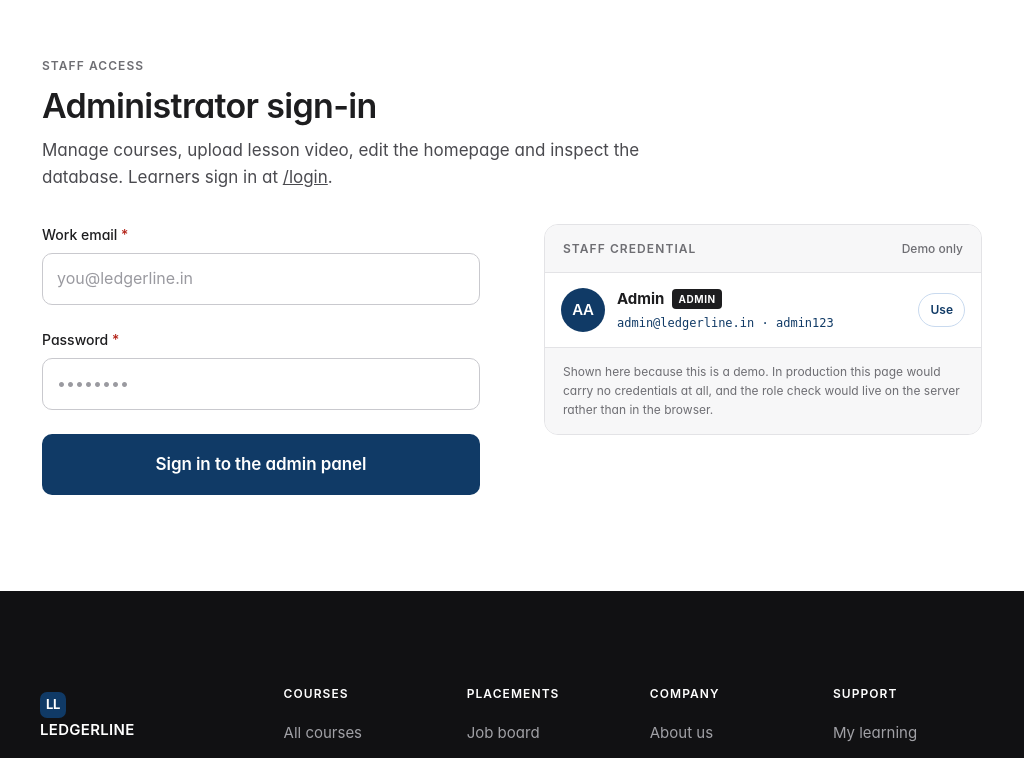
Test: sign-in page › refuses a learner account on the staff page
Expected: the text "Staff credential" is shown, [563,239,696,258]
In the field with placeholder "you@ledgerline.in": (261, 279) [42,253,480,305], type "learner@ledgerline.in"
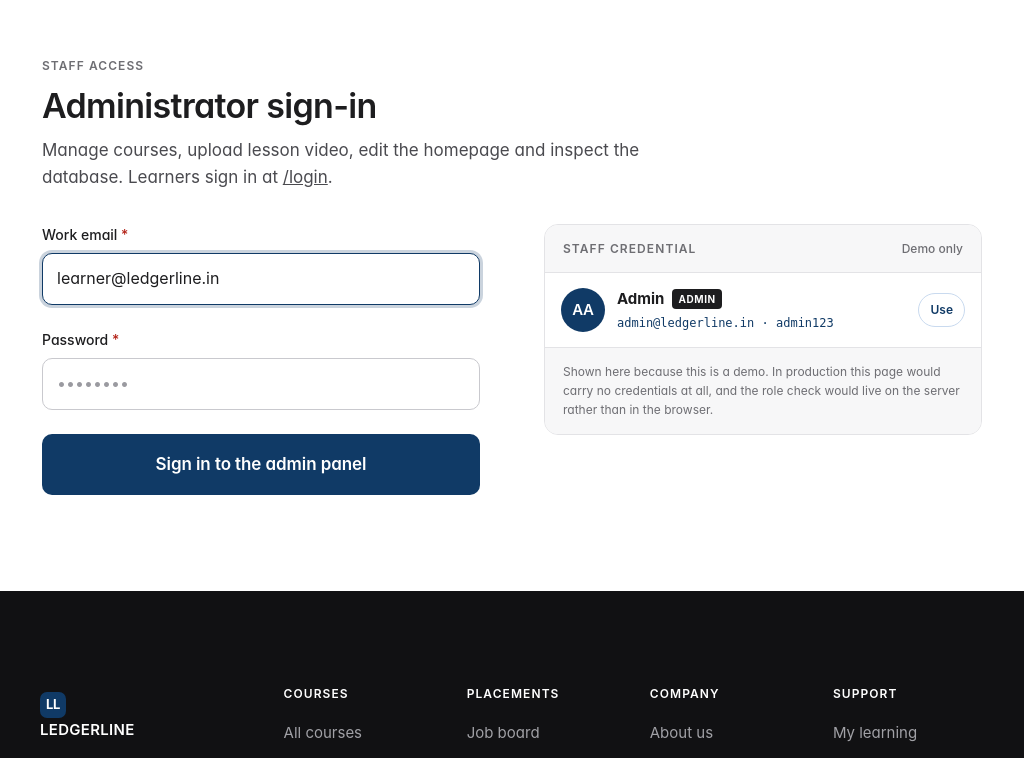
In the password field with placeholder "••••••••": (261, 384) [42,358,480,410], type "learner123"
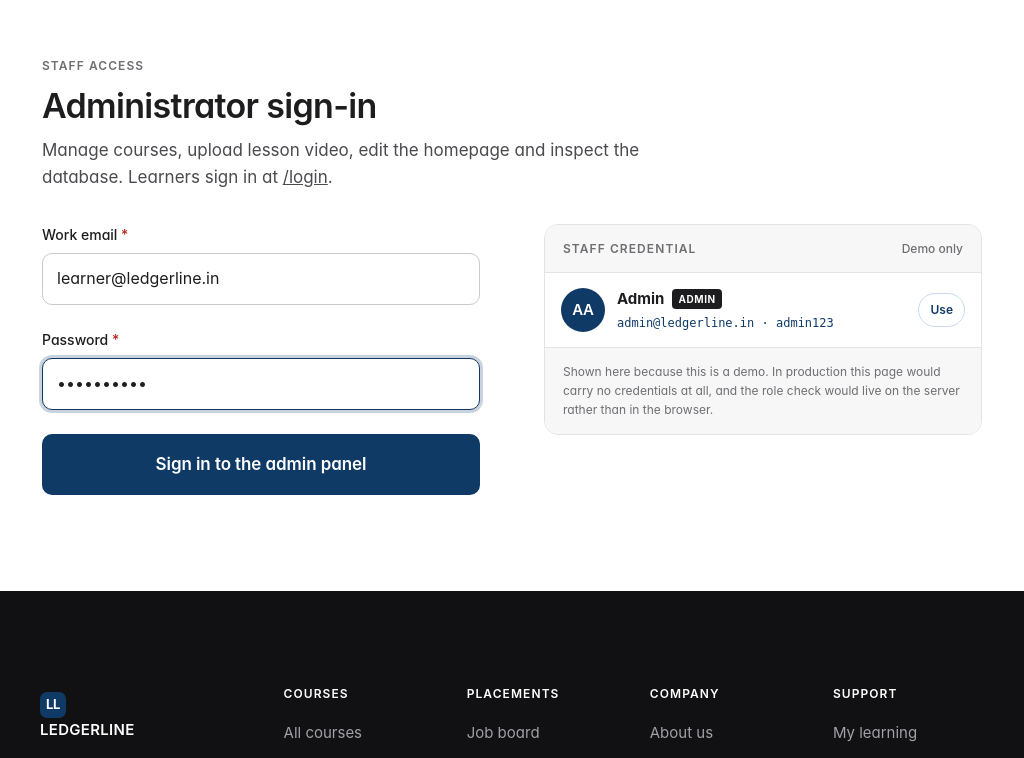
Click the button "Sign in to the admin panel": (261, 464) [42,434,480,495]
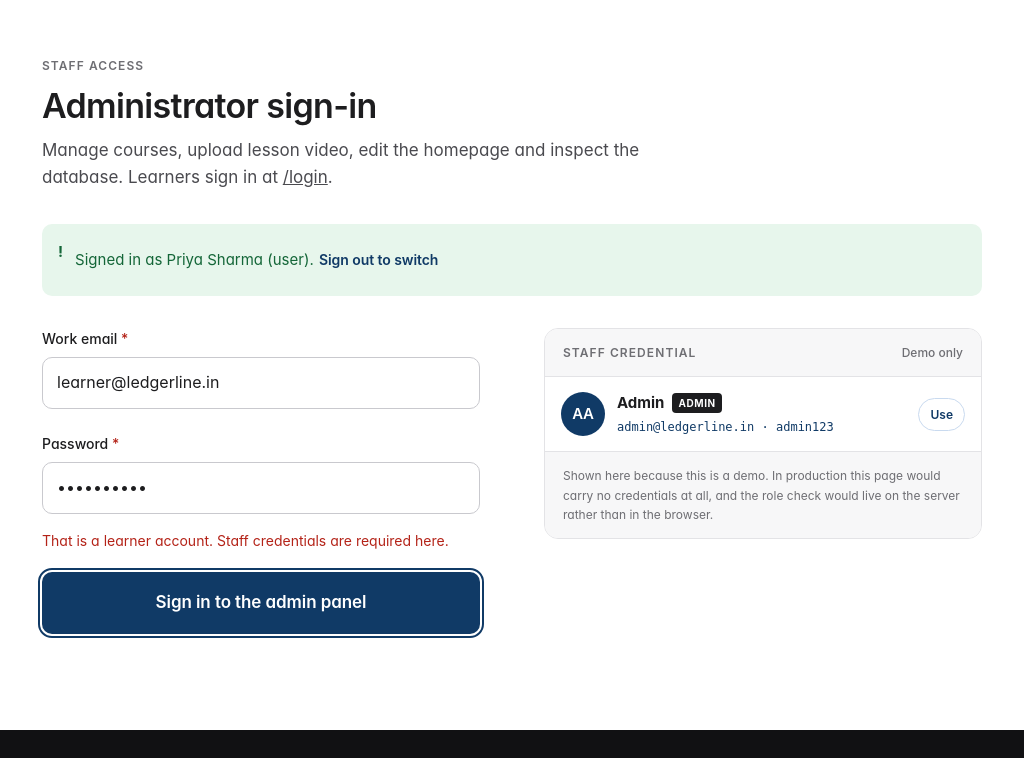
Expected: the text "Staff credentials are required" is shown, [42,532,449,549]
